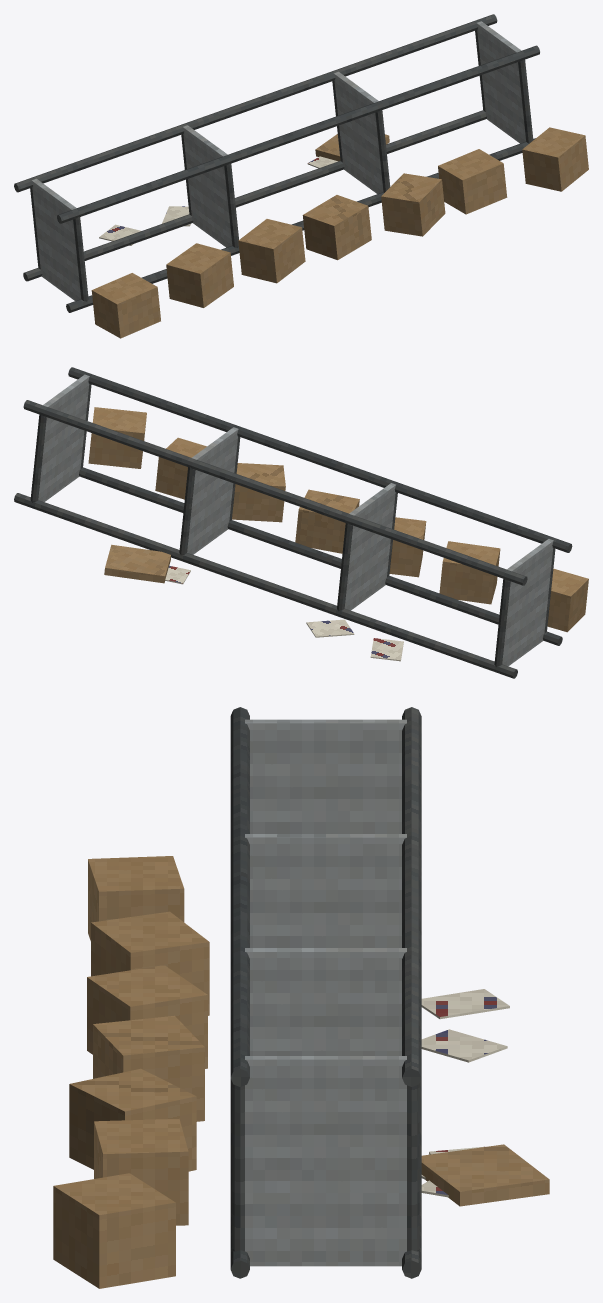
File: shelf_fallen.glb
The picture shows the model from 3 angles, top to bottom: view 1: azimuth 30°, elevation 25°; view 2: azimuth 150°, elevation 25°; view 3: azimuth 270°, elevation 25°; orthographic projection. The views are drawn at different scales.
Parts seen in each view (by area): view 1: body; view 2: body; view 3: body.
Part boxes in pixels (<box>): body: <box>14,14,588,338</box>; body: <box>14,367,588,678</box>; body: <box>53,707,549,1288</box>.
Bounding box in the file's own units: 2.93 × 0.874 × 1.27.
4 materials, 4 textured.
